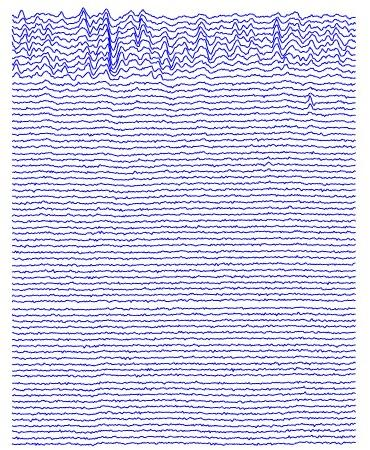defect: (271, 16, 357, 64), (12, 10, 69, 80), (96, 11, 128, 77), (148, 30, 181, 79), (227, 15, 257, 59), (187, 15, 212, 64), (79, 10, 92, 77), (131, 9, 144, 47), (305, 91, 320, 115)
